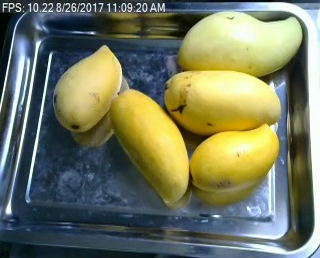Mango: (108, 90, 193, 209), (175, 10, 304, 79), (161, 71, 283, 133), (49, 41, 127, 130), (188, 126, 283, 194)
